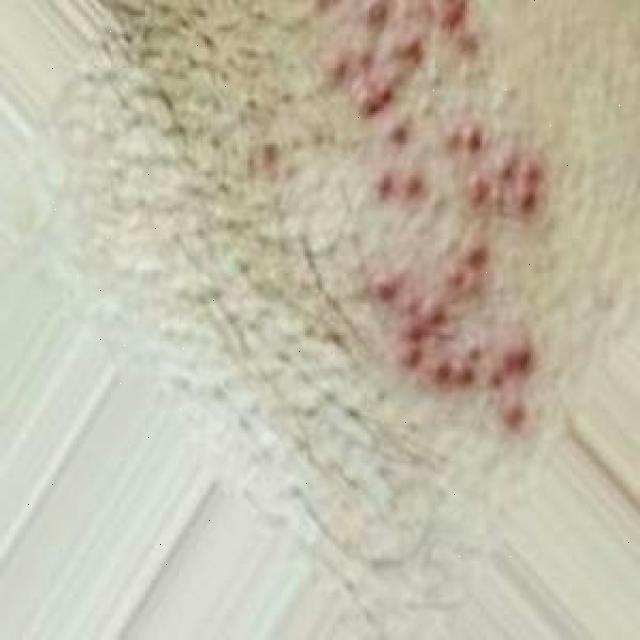Shingles: (326, 0, 542, 431)
